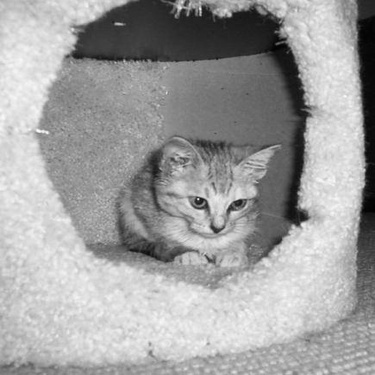cat: (117, 133, 284, 270)
